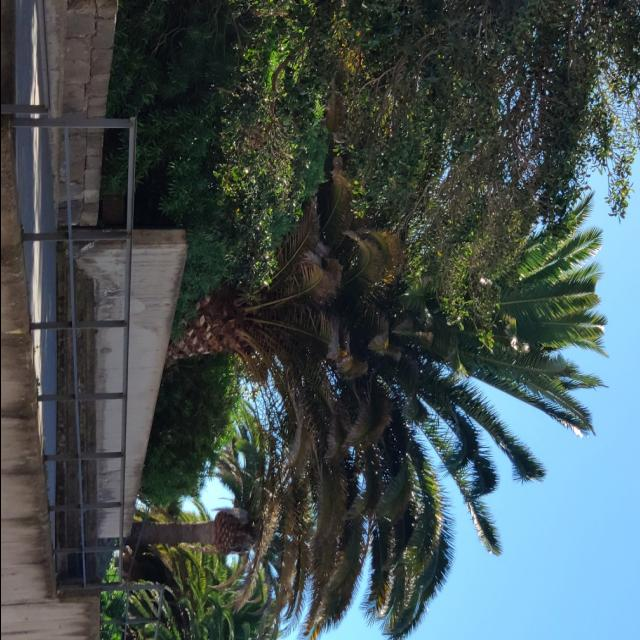Palm-Trees: (169, 150, 477, 528)
